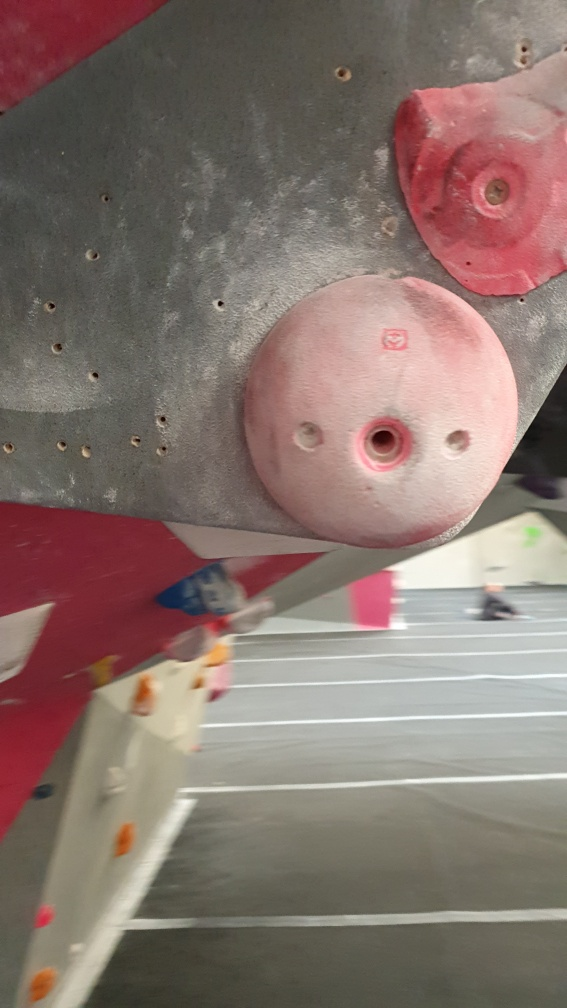Sloper: (239, 271, 523, 549)
